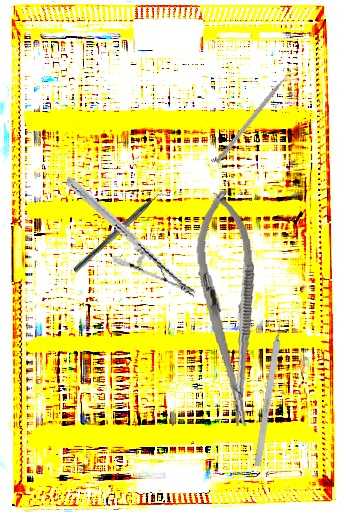Chopper: (72, 185, 172, 279), (214, 67, 300, 168)
Hook Surgical: (253, 312, 286, 467)
Needle Holder: (47, 176, 215, 299), (190, 188, 268, 429)
